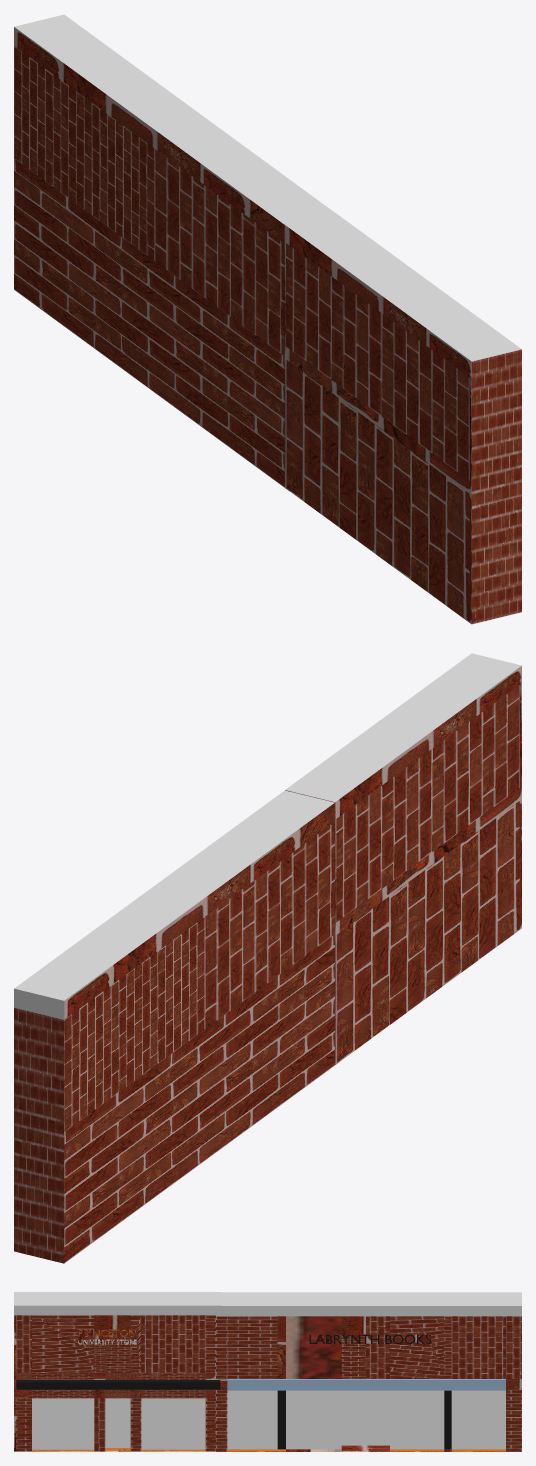
Rendered from Labyrinth.gltf.
3 renders of one model, top to bottom at view 1: azimuth 30°, elevation 25°; view 2: azimuth 150°, elevation 25°; view 3: azimuth 270°, elevation 25°, orthographic. The views are drawn at different scales.
Parts seen in each view (by area): view 1: Cube; view 2: Cube; view 3: Cube.
Boxes of the visible parts, <box> form: Cube: <box>14,14,521,624</box>; Cube: <box>14,653,521,1263</box>; Cube: <box>14,1292,521,1451</box>.
Size of the model in its own units: 6.21 by 29.46 by 92.85.
Materials: 7 (1 with a texture image).
